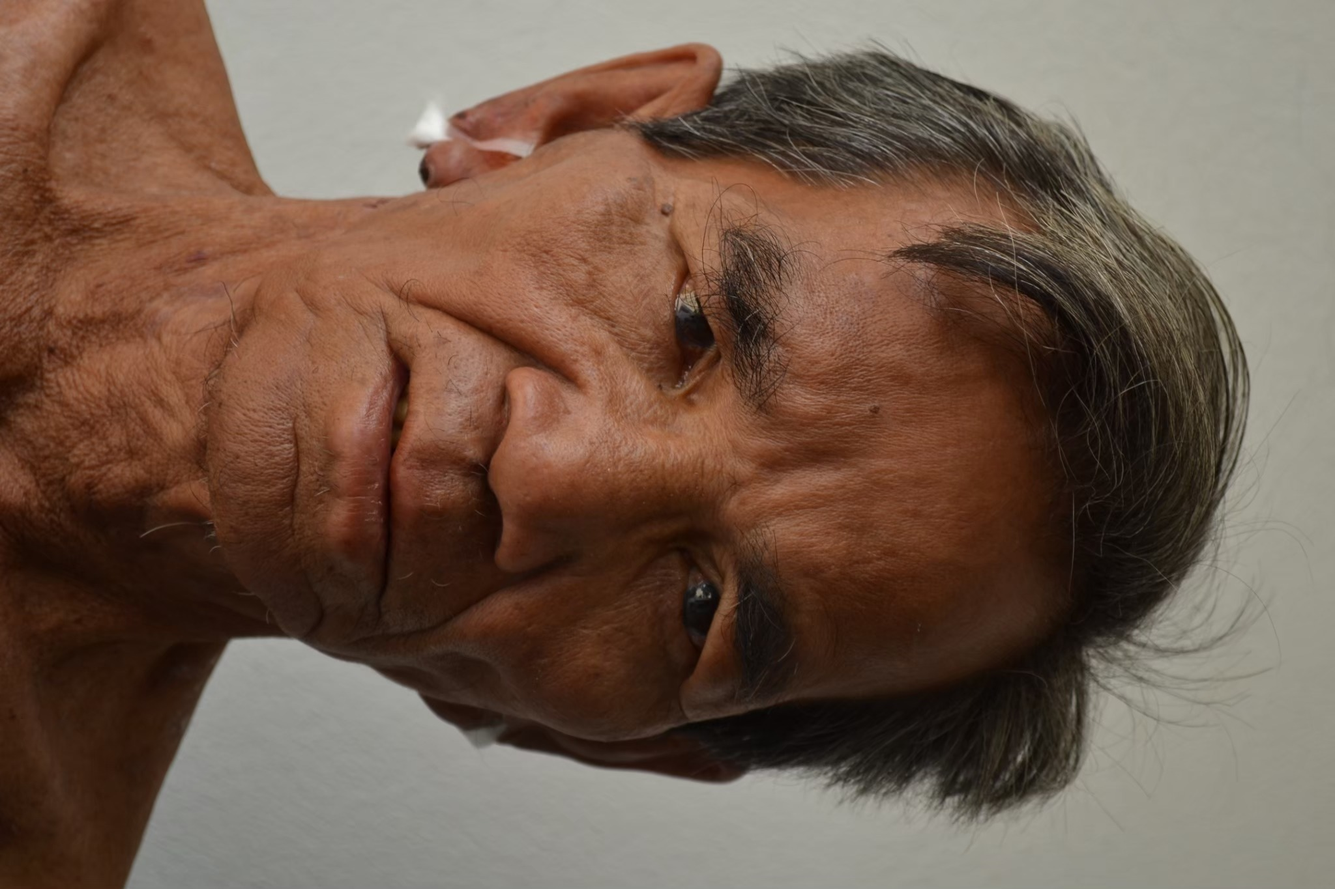Leprosy: (780, 520, 849, 579), (793, 323, 848, 382)
